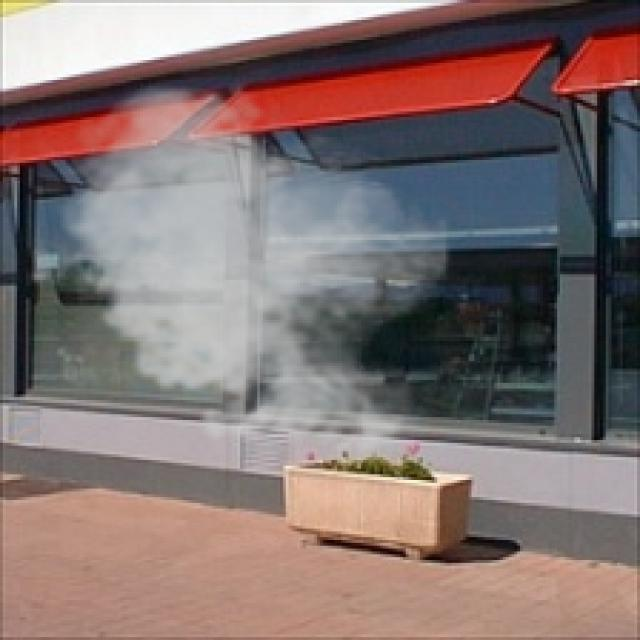smoke: (46, 77, 451, 469)
